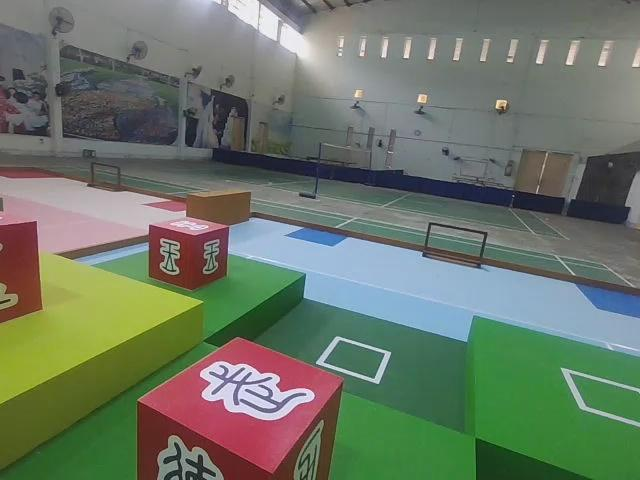R2 Fake: (133, 334, 346, 480)
R2 Real: (146, 215, 232, 291)
